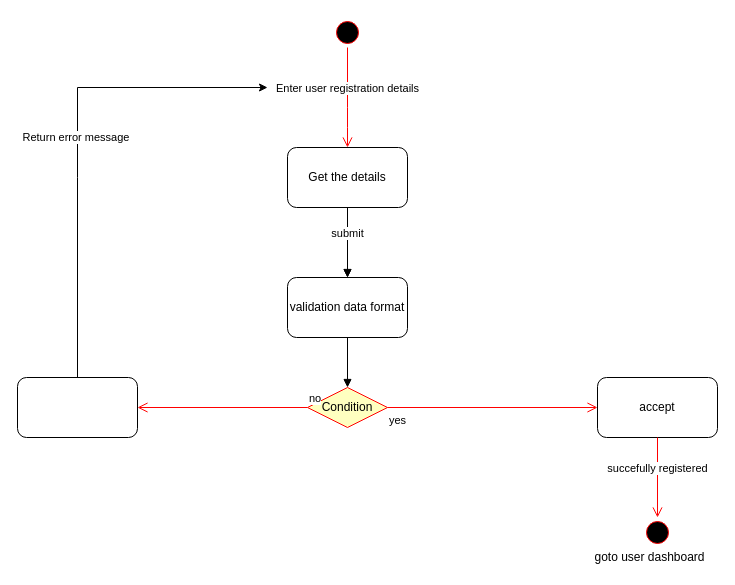
Some shapes in this 735 by 585 pixel diagram are drawn without their labels. Here are the shapes that lost their labels. From the top down, the centre of each, then its label:
At (347,32): "user".
At (77,407): "reject".
